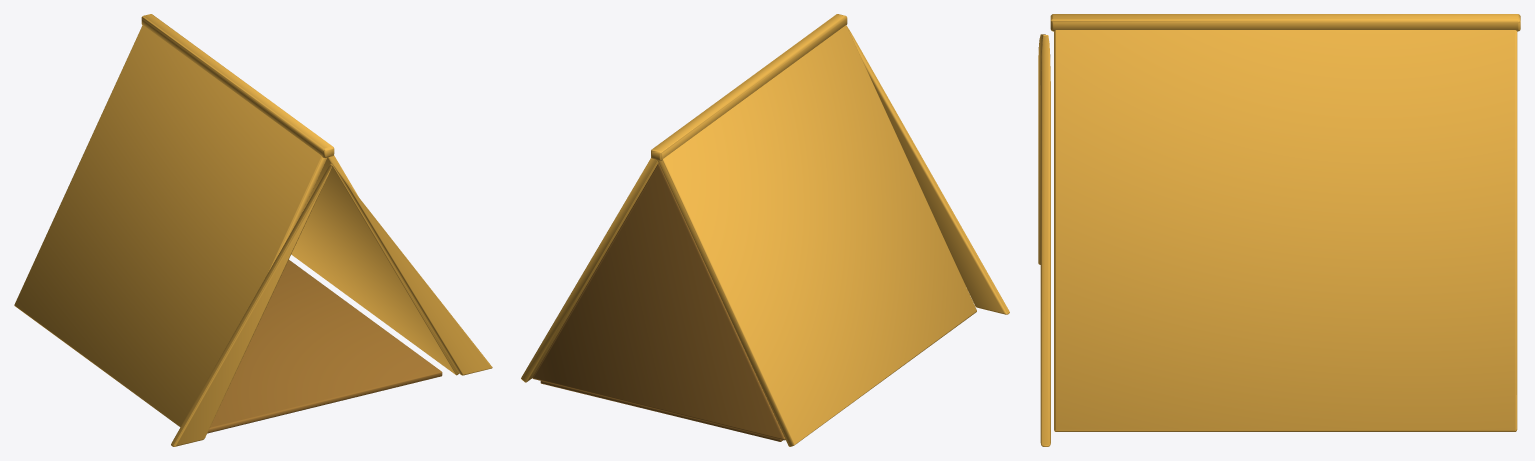
Rendered from cadir-sari.glb.
The picture shows the model from 3 angles, left to right: view 1: azimuth 30°, elevation 25°; view 2: azimuth 150°, elevation 25°; view 3: azimuth 270°, elevation 25°; orthographic projection. The views are drawn at different scales.
Visible parts, largest first — view 1: 67P_CADIR_SARI_01_BODY, 67P_CADIR_SARI_01_INTERIOR; view 2: 67P_CADIR_SARI_01_BODY, 67P_CADIR_SARI_01_INTERIOR; view 3: 67P_CADIR_SARI_01_BODY.
Boxes of the visible parts, left/top/right/bottom form: 67P_CADIR_SARI_01_BODY: left=14, top=14, right=492, bottom=446; 67P_CADIR_SARI_01_INTERIOR: left=207, top=260, right=442, bottom=433; 67P_CADIR_SARI_01_BODY: left=521, top=14, right=1009, bottom=446; 67P_CADIR_SARI_01_INTERIOR: left=532, top=163, right=785, bottom=441; 67P_CADIR_SARI_01_BODY: left=1038, top=14, right=1520, bottom=446.
Bounding box in the file's own units: 3.29 × 2.55 × 3.34.
